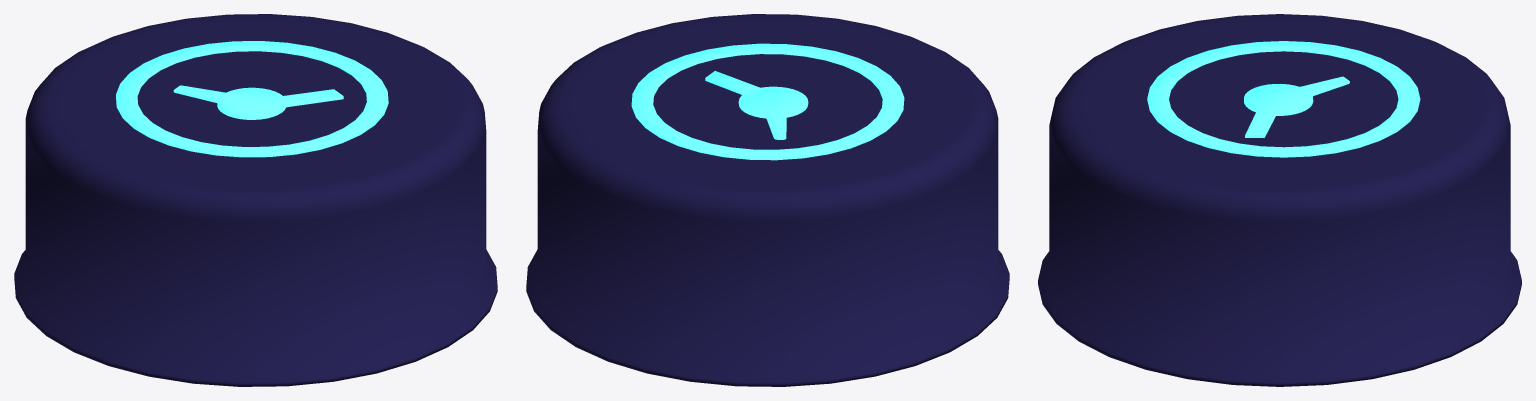
Rendered from ButtonClock-Button.glb.
3 views of the same model, side by side, from view 1: azimuth 30°, elevation 25°; view 2: azimuth 150°, elevation 25°; view 3: azimuth 270°, elevation 25° (orthographic).
Parts seen in each view (by area): view 1: Circle, Circle.001; view 2: Circle, Circle.001; view 3: Circle, Circle.001.
Boxes of the visible parts, x1=… form: Circle: x1=14, y1=14, x2=497, y2=386; Circle.001: x1=116, y1=41, x2=388, y2=157; Circle: x1=526, y1=14, x2=1009, y2=386; Circle.001: x1=631, y1=43, x2=904, y2=160; Circle: x1=1038, y1=14, x2=1521, y2=386; Circle.001: x1=1147, y1=41, x2=1420, y2=157.
Bounding box in the file's own units: 1.47 × 0.6204 × 1.47.
